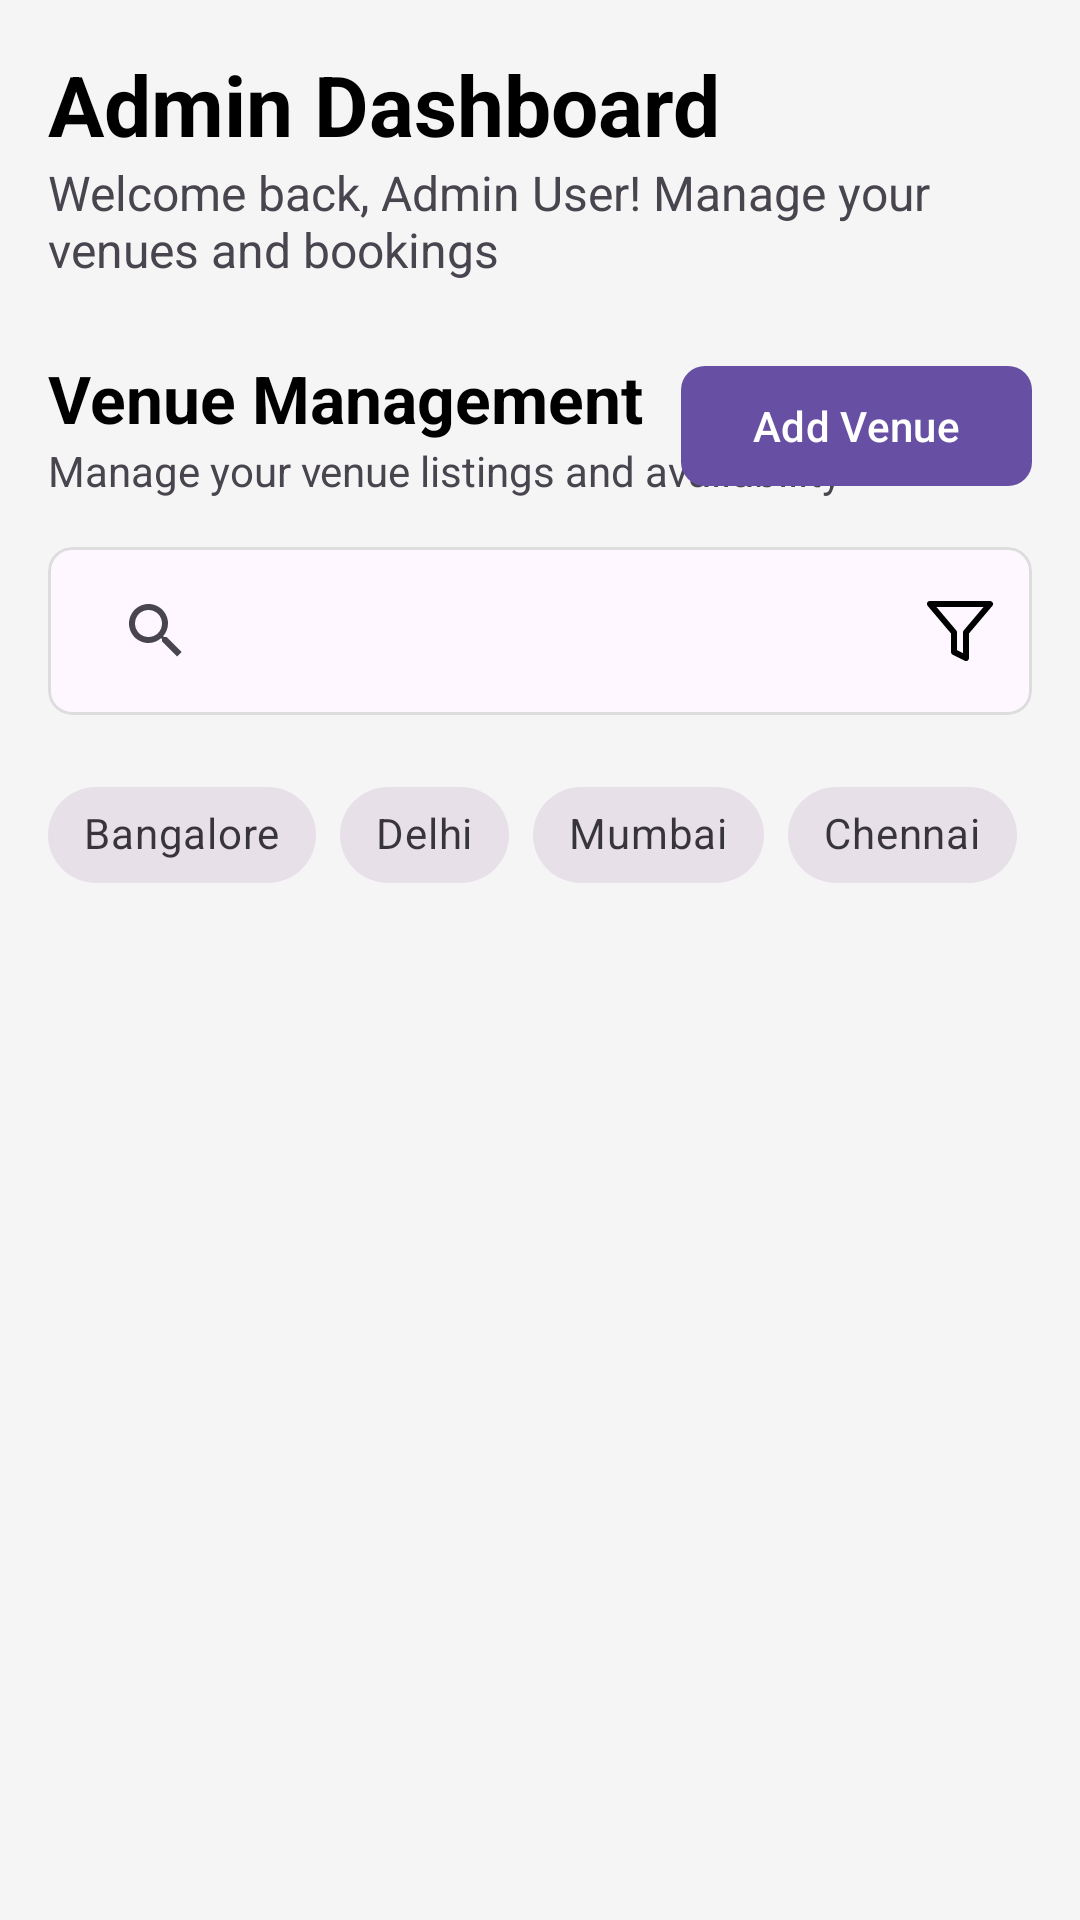

Named icons in this screenshot (1080w x 1920h) and their centers, (x=x, y=y):
filter: (x=960, y=631)
